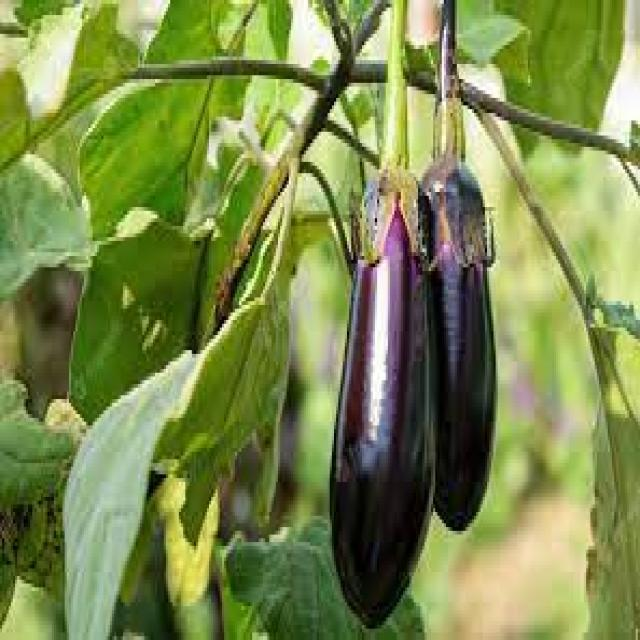Eggplant: (326, 68, 434, 632), (418, 37, 498, 530)
